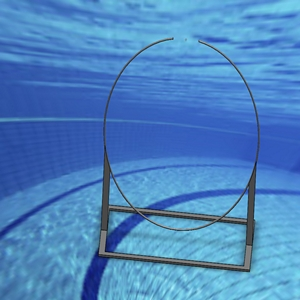circle: (100, 36, 262, 273)
